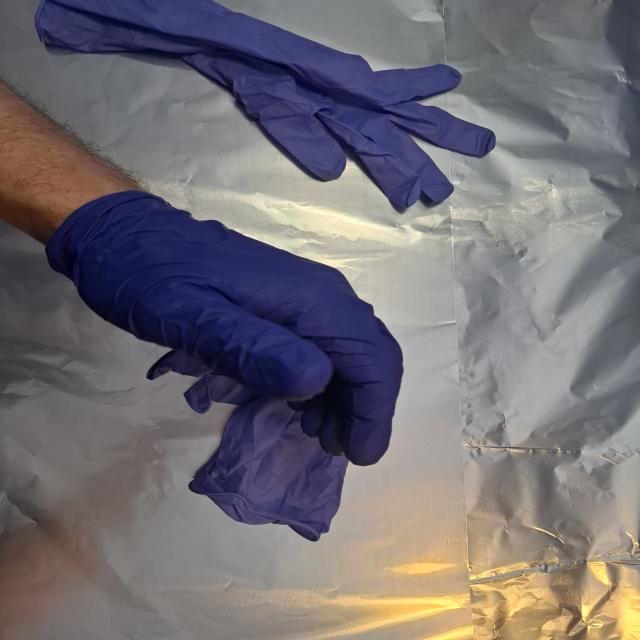glove_on: (49, 189, 407, 469)
